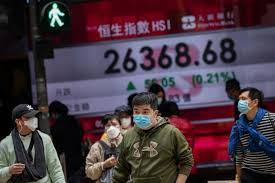mask: (131, 98, 155, 130), (15, 110, 40, 134), (237, 88, 257, 114), (101, 115, 119, 141), (155, 83, 167, 108), (223, 80, 237, 101), (118, 108, 129, 128)
